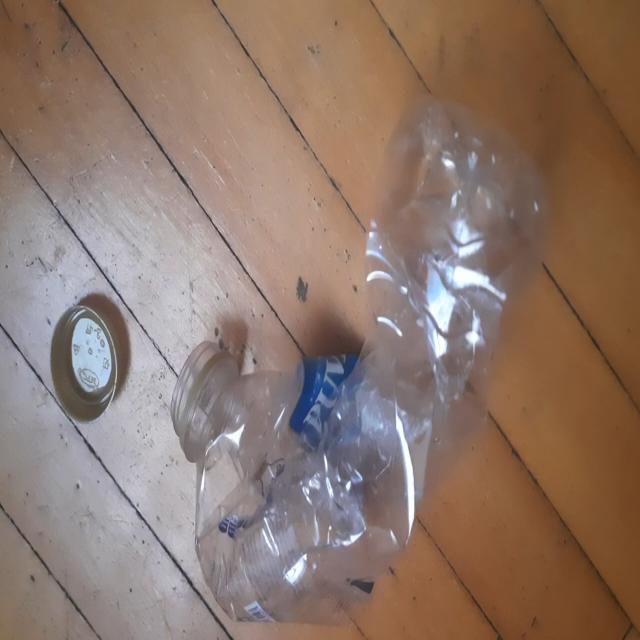Plastic: (172, 93, 548, 623)
